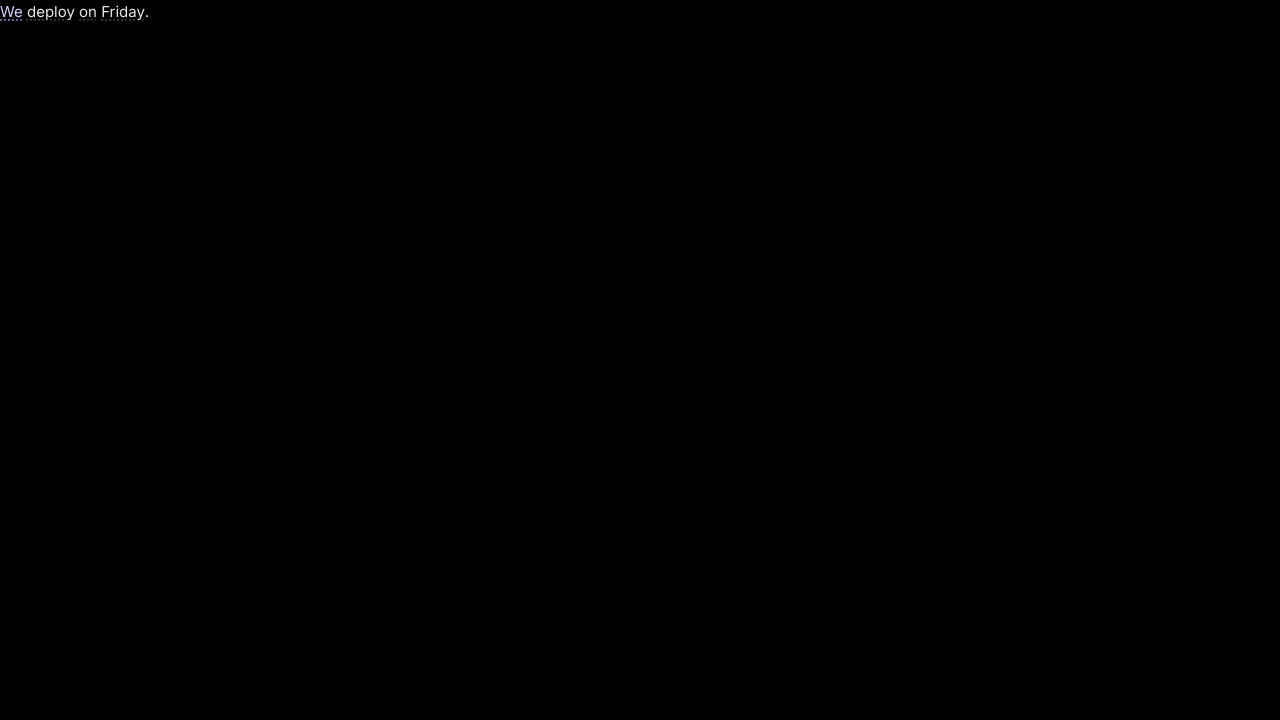
Scenario: tocar na mesma palavra de novo fecha a consulta
Click the button named "Consultar \"deploy\"": (51, 12) 27,0 -> 75,23
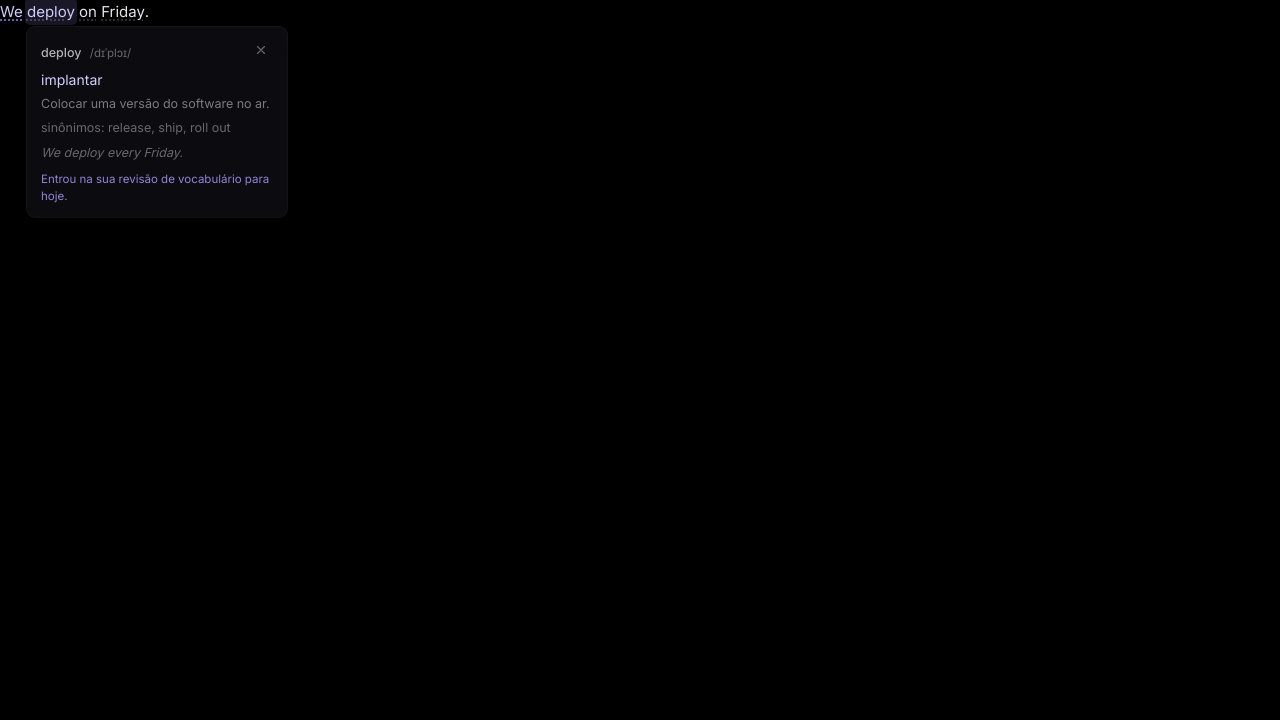
Expected: the text "implantar" is shown, 41,70 -> 102,88
Click the button named "Consultar \"deploy\"": (51, 12) 27,0 -> 75,23
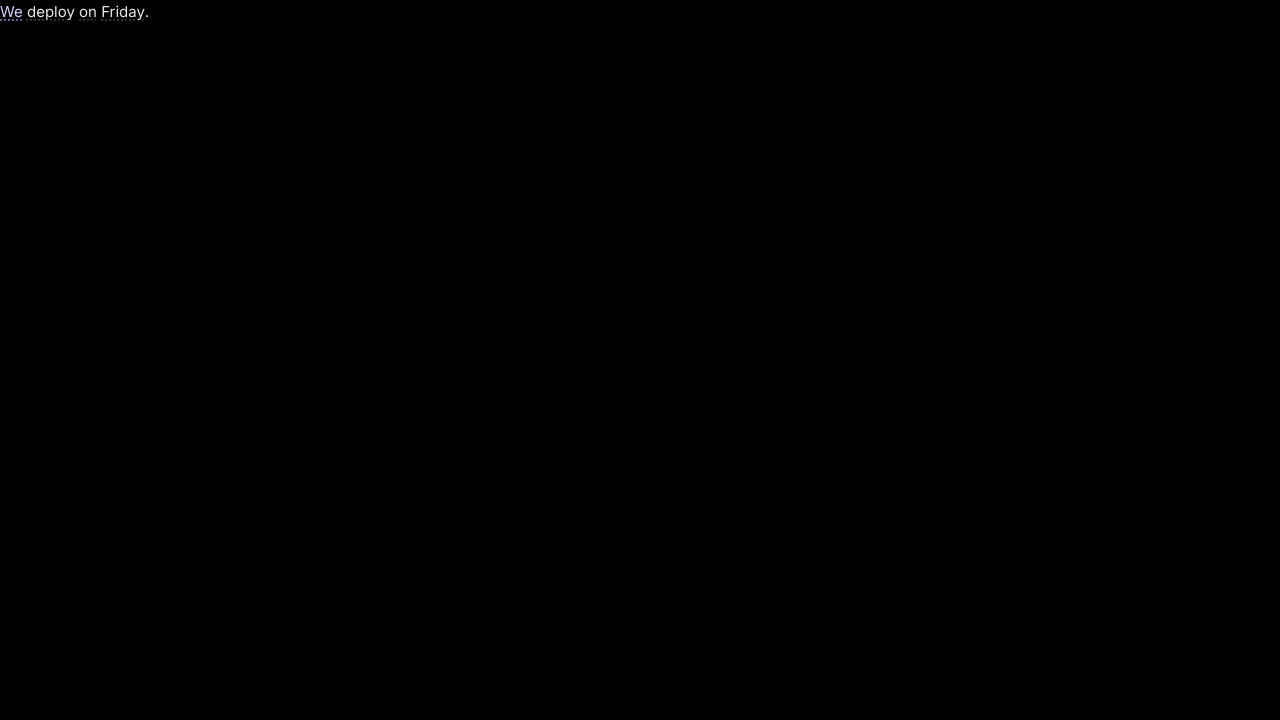
Expected: the text "implantar" is gone
